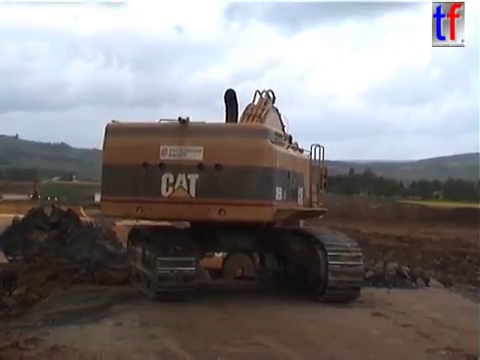excavator: (96, 84, 368, 307)
truck: (1, 203, 144, 313), (196, 210, 327, 286), (105, 216, 195, 289)
